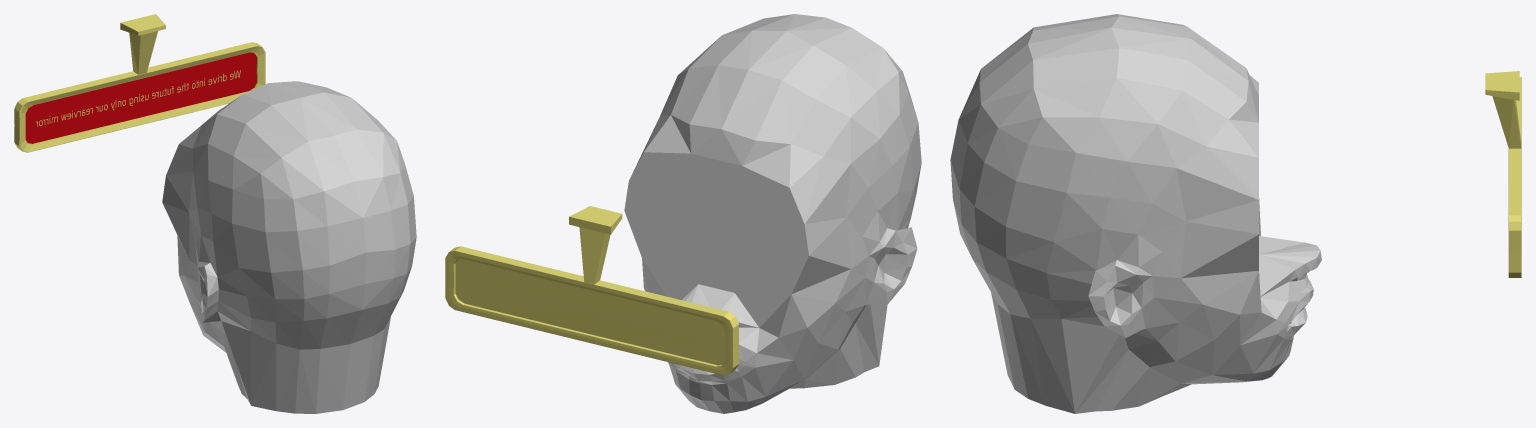
The model's file is Mark_kling_2.dae.
The picture shows the model from 3 angles, left to right: view 1: azimuth 30°, elevation 25°; view 2: azimuth 150°, elevation 25°; view 3: azimuth 270°, elevation 25°; orthographic projection. The views are drawn at different scales.
Parts seen in each view (by area): view 1: head, futureReverse, mirror; view 2: head, glasses, mirror; view 3: head, mirror.
Part boxes in pixels (x1,y1,x2,y2): head: (162,81,416,413); futureReverse: (25,52,256,143); mirror: (14,14,265,152); head: (629,14,921,413); glasses: (624,152,808,327); mirror: (445,206,738,375); head: (950,14,1321,413); mirror: (1485,71,1521,277).
Size of the model in its own units: 9.43 by 15.35 by 10.32.
